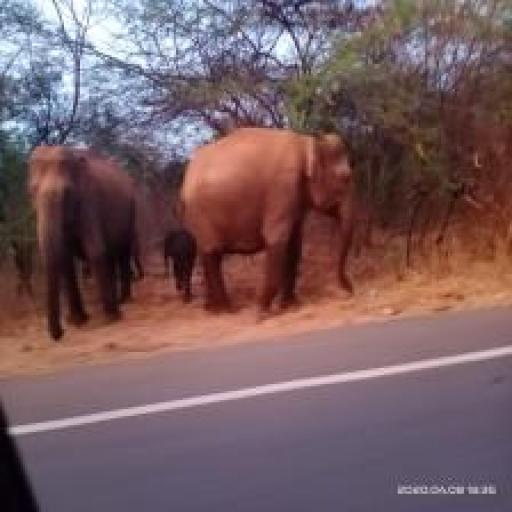Elephant: (183, 128, 355, 315), (25, 144, 135, 339)
